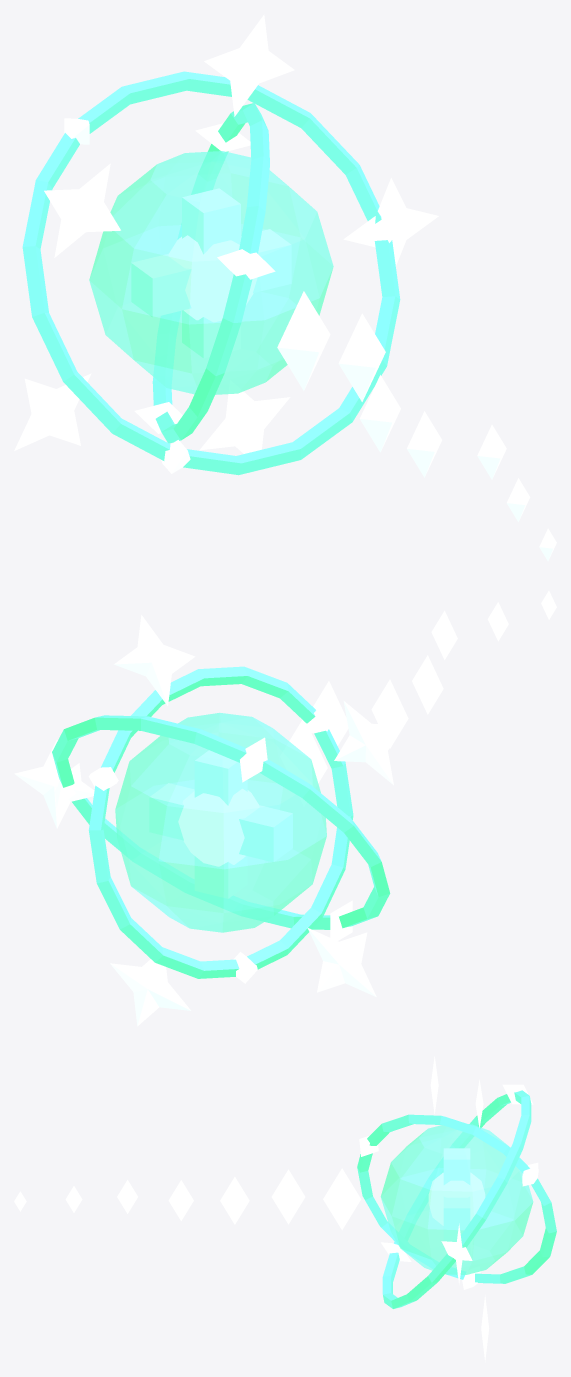
Rendered from Magic_Heal.glb.
3 views of the same model, one above another, from view 1: azimuth 30°, elevation 25°; view 2: azimuth 150°, elevation 25°; view 3: azimuth 270°, elevation 25° (orthographic). The views are drawn at different scales.
Visible parts, largest first — view 1: HealOrb_Shell, HealOrb_Ring_A, HealOrb_Sparkles, HealOrb_Ring_B, HealOrb_Trail, HealOrb_Sigil, HealOrb_Core; view 2: HealOrb_Shell, HealOrb_Ring_B, HealOrb_Ring_A, HealOrb_Sparkles, HealOrb_Sigil, HealOrb_Trail, HealOrb_Core; view 3: HealOrb_Shell, HealOrb_Ring_A, HealOrb_Ring_B, HealOrb_Trail, HealOrb_Sigil, HealOrb_Core, HealOrb_Sparkles.
Boxes of the visible parts, left/top/right/bottom form: HealOrb_Shell: left=89, top=151, right=333, bottom=394; HealOrb_Ring_A: left=22, top=71, right=400, bottom=475; HealOrb_Sparkles: left=14, top=14, right=438, bottom=453; HealOrb_Ring_B: left=134, top=103, right=275, bottom=443; HealOrb_Trail: left=277, top=291, right=556, bottom=561; HealOrb_Sigil: left=131, top=188, right=291, bottom=357; HealOrb_Core: left=168, top=235, right=257, bottom=322; HealOrb_Shell: left=115, top=712, right=326, bottom=932; HealOrb_Ring_B: left=88, top=666, right=353, bottom=983; HealOrb_Ring_A: left=52, top=715, right=390, bottom=940; HealOrb_Sparkles: left=14, top=615, right=403, bottom=1026; HealOrb_Sigil: left=149, top=750, right=292, bottom=898; HealOrb_Trail: left=280, top=591, right=556, bottom=805; HealOrb_Core: left=178, top=789, right=259, bottom=866; HealOrb_Shell: left=380, top=1124, right=533, bottom=1274; HealOrb_Ring_A: left=381, top=1084, right=533, bottom=1308; HealOrb_Ring_B: left=357, top=1114, right=556, bottom=1289; HealOrb_Trail: left=14, top=1168, right=361, bottom=1230; HealOrb_Sigil: left=443, top=1148, right=470, bottom=1249; HealOrb_Core: left=428, top=1172, right=485, bottom=1225; HealOrb_Sparkles: left=430, top=1056, right=489, bottom=1362.
Size of the model in its own units: 0.7779 by 0.8179 by 1.42.
